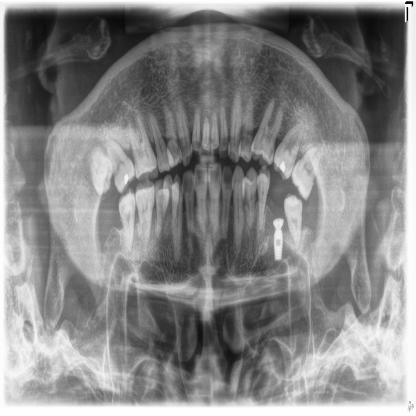Bicon: (271, 230, 287, 262)
